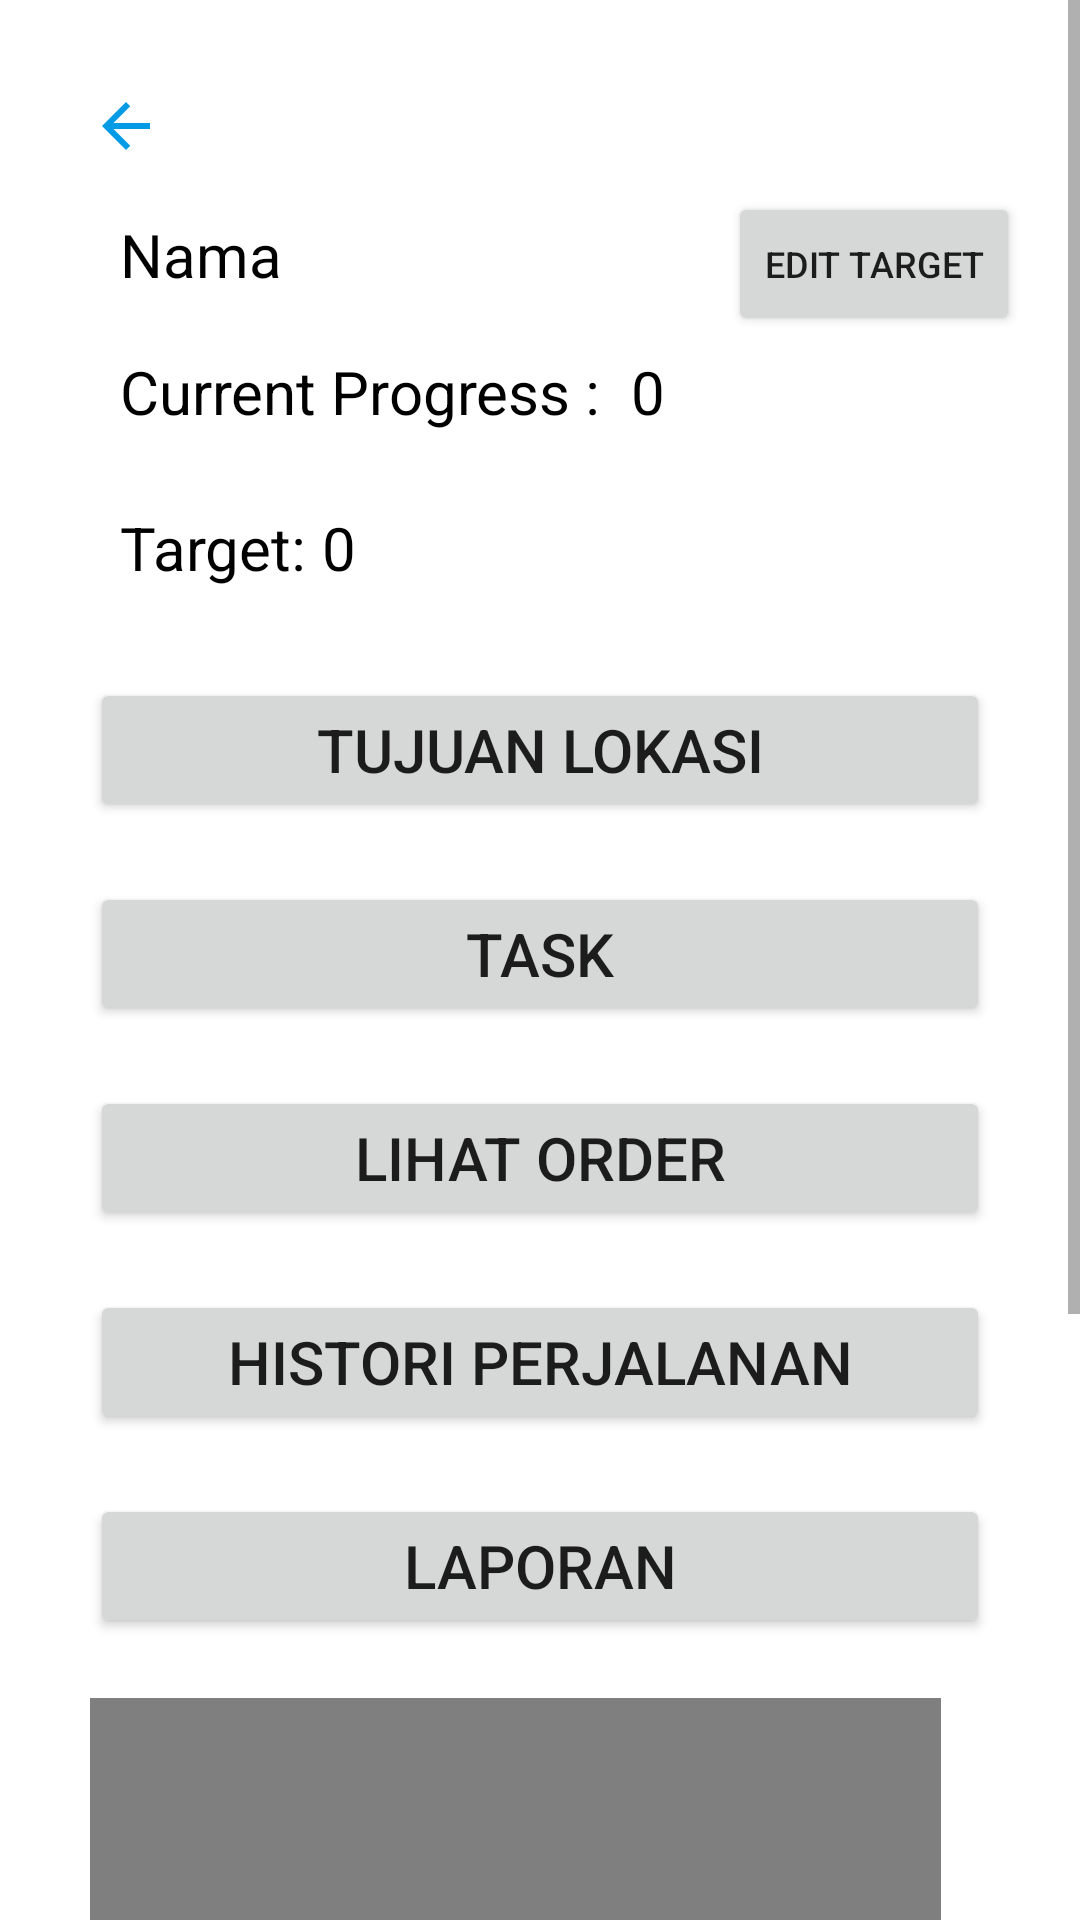

Locate icon controls on the screen. Image size 1080*1920, boxes as {"x1": x1, "y1": y1, "x2": x2, "y2": y2}.
arrow back for frag: {"x1": 102, "y1": 102, "x2": 150, "y2": 150}
